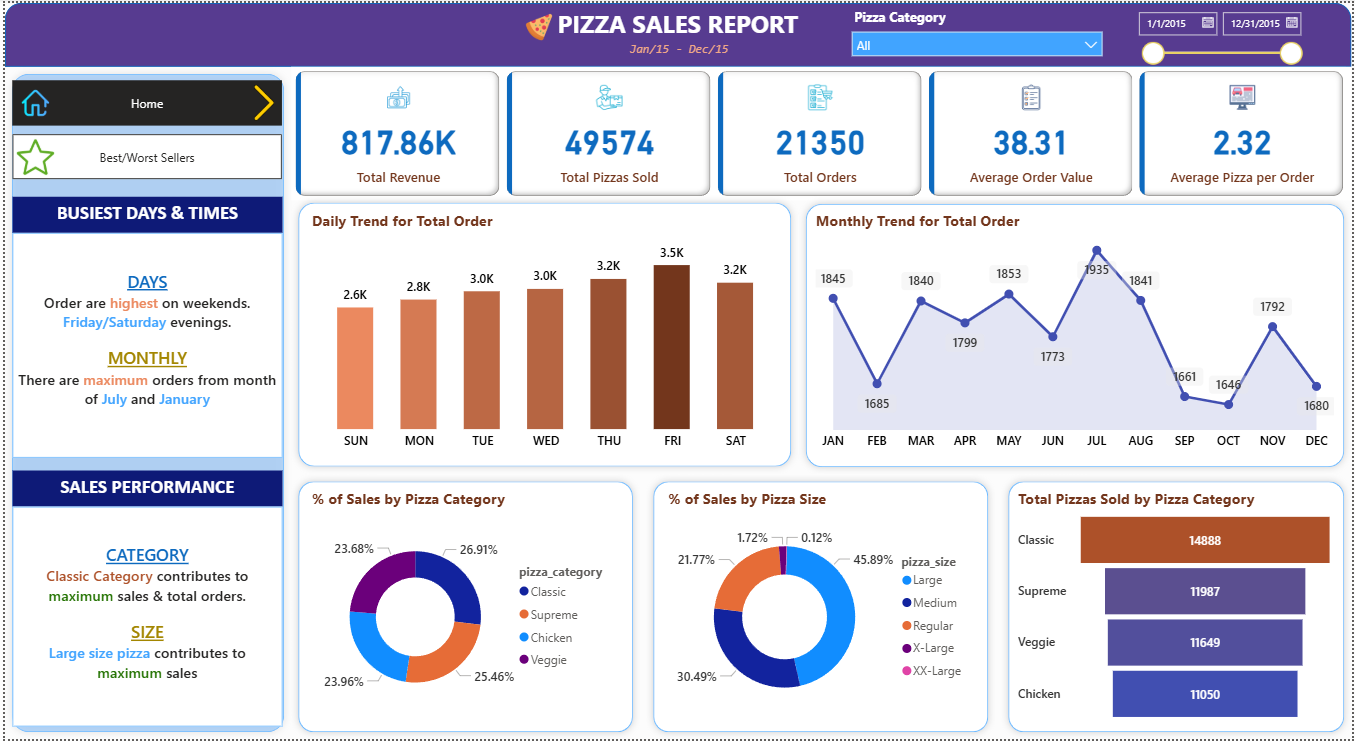

The page's visual inventory and layout, read from the dashboard file:
{"tool":"powerbi","page":{"name":"Home","canvas":[1500,820],"ordinal":0},"visuals":[{"type":"shape","box":[0,0,1499.9,71],"z":0},{"type":"shape","box":[0,71,318.9,749.3],"z":1000},{"type":"cardVisual","fields":{"Data":["pizza_sales.Total Revenue","pizza_sales.Total Pizzas Sold","pizza_sales.Total Orders","pizza_sales.Average Order Value","pizza_sales.Average Pizza per Order"]},"box":[318.9,71,1181,149],"z":2000},{"type":"textbox","box":[606.2,0,287.5,46.2],"z":3000},{"type":"textbox","box":[686.2,36.2,128.8,28.8],"z":4000},{"type":"image","box":[571.2,7.5,47.5,40],"z":5000},{"type":"shape","box":[318.8,215,565,310],"z":6000},{"type":"columnChart","title":"Daily Trend for Total Order","fields":{"Category":["pizza_sales.Order Day"],"Y":["pizza_sales.Total Orders"]},"box":[337,231.2,532,275.7],"z":7000},{"type":"shape","box":[884.3,215.9,615.6,309.2],"z":8000},{"type":"areaChart","title":"Monthly Trend for Total Order","fields":{"Category":["pizza_sales.Order Month"],"Y":["pizza_sales.Total Orders"]},"box":[898.3,231.2,587.7,275.7],"z":9000},{"type":"shape","box":[318.9,525,388.6,295.2],"z":10000},{"type":"shape","box":[714.4,525,389,295.2],"z":11000},{"type":"shape","box":[1110,525,389.9,295.2],"z":12000},{"type":"donutChart","title":"% of Sales by Pizza Category","fields":{"Category":["pizza_sales.pizza_category"],"Y":["pizza_sales.Total Revenue"]},"box":[337,540.4,349.6,266],"z":13000},{"type":"donutChart","title":"% of Sales by Pizza Size","fields":{"Y":["pizza_sales.Total Revenue"],"Category":["pizza_sales.pizza_size"]},"box":[733.9,540.4,349.6,266],"z":14000},{"type":"funnel","title":"Total Pizzas Sold by Pizza Category","fields":{"Category":["pizza_sales.pizza_category"],"Y":["pizza_sales.Total Pizzas Sold"]},"box":[1123.9,540.4,362.1,266],"z":15000},{"type":"textbox","box":[8.4,215.9,300.8,40.4],"z":16000},{"type":"textbox","box":[8.4,256.3,300.8,250.7],"z":17000},{"type":"textbox","box":[8.4,520.9,300.8,40.4],"z":18000},{"type":"textbox","box":[8.4,561.2,300.8,245.1],"z":19000},{"type":"slicer","fields":{"Values":["pizza_sales.pizza_category"]},"box":[898.3,4.2,293.9,61.3],"z":20000},{"type":"slicer","fields":{"Values":["pizza_sales.order_date"]},"box":[1208.8,0,210.3,71],"z":22500},{"type":"pageNavigator","box":[8.4,86.3,300.8,50.1],"z":22501},{"type":"pageNavigator","box":[8.4,146.2,300.8,50.1],"z":22502},{"type":"image","box":[259,86.3,59.9,50.1],"z":22503},{"type":"image","box":[13.9,90.5,40.4,41.8],"z":22504},{"type":"image","box":[8.4,142.1,51.5,59.9],"z":22505}]}

Visuals, with their boxes in screenshot pixels (x1, y1, x2, y2), scaled from the page's 1500x820 canvas onto the 1355x741 screenshot:
shape: Rect(0, 0, 1354, 64)
shape: Rect(0, 64, 288, 740)
cardVisual - pizza_sales.Total Revenue x pizza_sales.Total Pizzas Sold: Rect(288, 64, 1354, 199)
textbox: Rect(548, 0, 807, 42)
textbox: Rect(620, 33, 736, 59)
image: Rect(516, 7, 559, 43)
shape: Rect(288, 194, 798, 474)
"Daily Trend for Total Order" columnChart: Rect(304, 209, 785, 458)
shape: Rect(799, 195, 1354, 475)
"Monthly Trend for Total Order" areaChart: Rect(811, 209, 1342, 458)
shape: Rect(288, 474, 639, 740)
shape: Rect(645, 474, 997, 740)
shape: Rect(1003, 474, 1354, 740)
"% of Sales by Pizza Category" donutChart: Rect(304, 488, 620, 729)
"% of Sales by Pizza Size" donutChart: Rect(663, 488, 979, 729)
"Total Pizzas Sold by Pizza Category" funnel: Rect(1015, 488, 1342, 729)
textbox: Rect(8, 195, 279, 232)
textbox: Rect(8, 232, 279, 458)
textbox: Rect(8, 471, 279, 507)
textbox: Rect(8, 507, 279, 729)
slicer - pizza_sales.pizza_category: Rect(811, 4, 1077, 59)
slicer - pizza_sales.order_date: Rect(1092, 0, 1282, 64)
pageNavigator: Rect(8, 78, 279, 123)
pageNavigator: Rect(8, 132, 279, 177)
image: Rect(234, 78, 288, 123)
image: Rect(13, 82, 49, 120)
image: Rect(8, 128, 54, 183)
